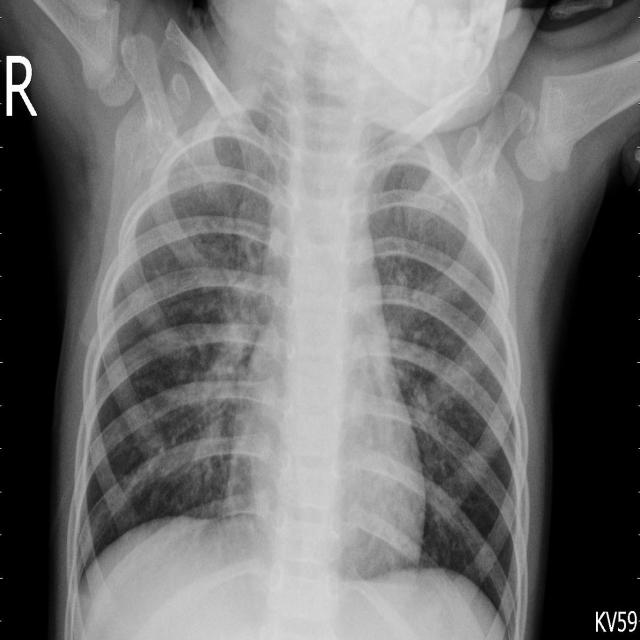low-pneumonia: (366, 124, 476, 446), (178, 148, 276, 508), (168, 84, 284, 215)
